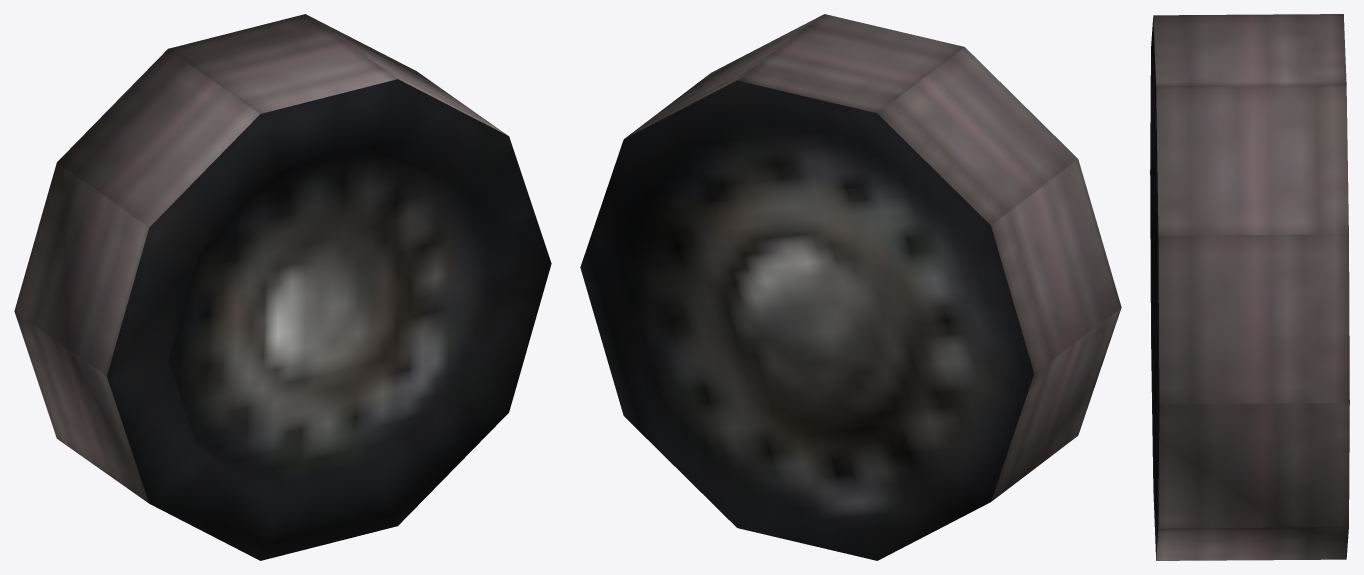
File: police_ds.obj
3 views of the same model, side by side, from view 1: azimuth 30°, elevation 25°; view 2: azimuth 150°, elevation 25°; view 3: azimuth 270°, elevation 25° (orthographic). The views are drawn at different scales.
Visible parts, largest first — view 1: copCar_LOD0_Plano.053; view 2: copCar_LOD0_Plano.053; view 3: copCar_LOD0_Plano.053.
Part boxes in pixels (x1,y1,x2,y2): copCar_LOD0_Plano.053: [14, 14, 551, 560]; copCar_LOD0_Plano.053: [580, 14, 1121, 560]; copCar_LOD0_Plano.053: [1150, 14, 1349, 560].
Bounding box in the file's own units: 0.4906 × 0.4639 × 0.1772.
Materials: 1 (1 with a texture image).
